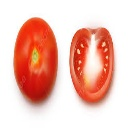tomato: (14, 17, 58, 102), (69, 27, 114, 101)
